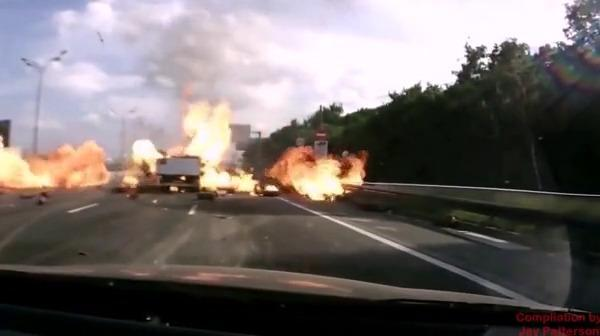fire: (126, 92, 263, 202), (0, 129, 112, 197), (268, 135, 372, 206)
